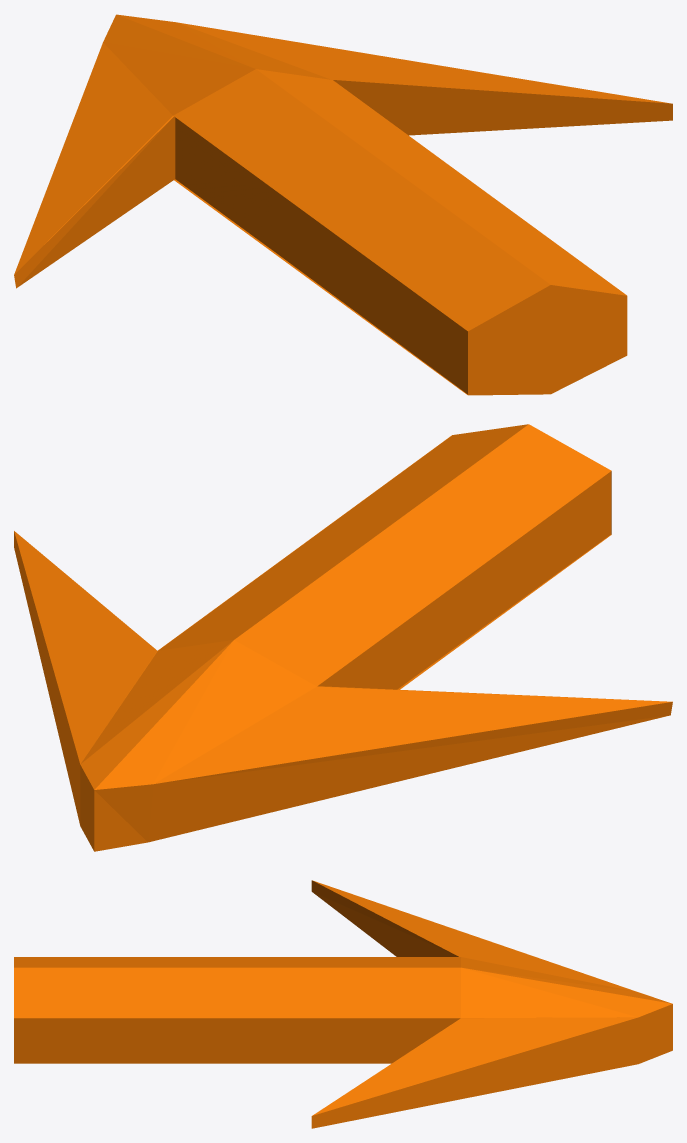
The model's file is Arrow.obj.
3 renders of one model, top to bottom at view 1: azimuth 30°, elevation 25°; view 2: azimuth 150°, elevation 25°; view 3: azimuth 270°, elevation 25°, orthographic. The views are drawn at different scales.
Parts seen in each view (by area): view 1: Cube; view 2: Cube; view 3: Cube.
Part boxes in pixels (x1,y1,x2,y2): Cube: [14, 14, 672, 395]; Cube: [14, 424, 672, 851]; Cube: [14, 880, 672, 1128].
Bounding box in the file's own units: 1.94 × 0.3074 × 2.21.
1 material, 1 textured.
